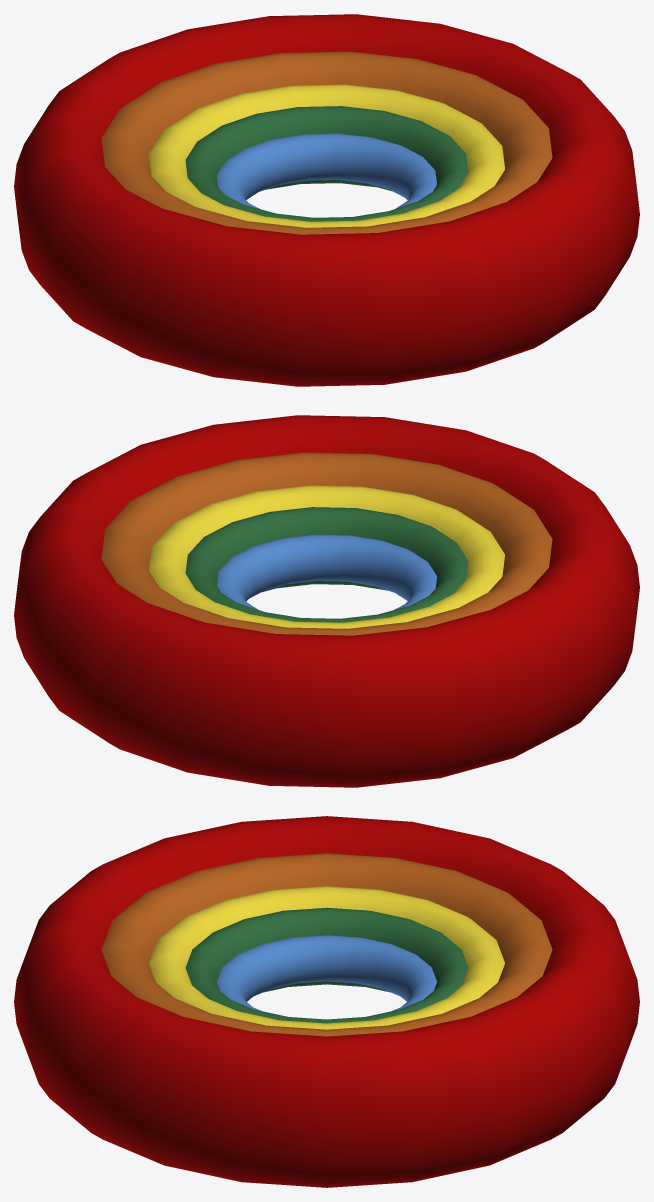
The model's file is Ring Game.fbx.
The picture shows the model from 3 angles, top to bottom: view 1: azimuth 30°, elevation 25°; view 2: azimuth 150°, elevation 25°; view 3: azimuth 270°, elevation 25°; orthographic projection.
Parts seen in each view (by area): view 1: pTorus1, pTorus2, pTorus3, pTorus4, pTorus5; view 2: pTorus1, pTorus2, pTorus3, pTorus4, pTorus5; view 3: pTorus1, pTorus2, pTorus3, pTorus4, pTorus5.
Boxes of the visible parts, <box> form: pTorus1: <box>14,14,639,386</box>; pTorus2: <box>101,51,552,234</box>; pTorus3: <box>149,84,504,227</box>; pTorus4: <box>185,106,468,221</box>; pTorus5: <box>216,133,436,208</box>; pTorus1: <box>14,415,639,787</box>; pTorus2: <box>101,452,552,635</box>; pTorus3: <box>149,485,504,628</box>; pTorus4: <box>185,507,468,622</box>; pTorus5: <box>217,534,437,609</box>; pTorus1: <box>14,816,639,1187</box>; pTorus2: <box>101,853,552,1036</box>; pTorus3: <box>149,886,504,1029</box>; pTorus4: <box>185,907,468,1023</box>; pTorus5: <box>217,935,436,1010</box>.
Size of the model in its own units: 0.3892 by 0.0993 by 0.3892.
